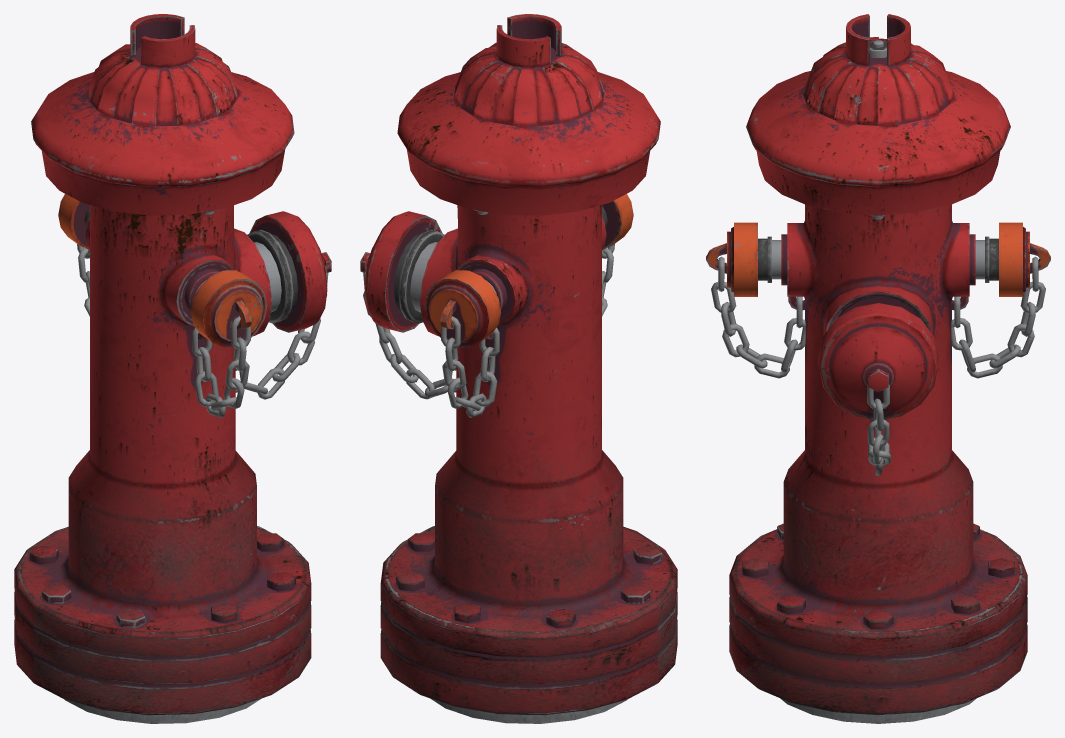
The model's file is FireHydrant.fbx.
3 renders of one model, left to right at view 1: azimuth 30°, elevation 25°; view 2: azimuth 150°, elevation 25°; view 3: azimuth 270°, elevation 25°, orthographic.
Visible parts, largest first — view 1: FireHydrant_LOD0; view 2: FireHydrant_LOD0; view 3: FireHydrant_LOD0.
Boxes of the visible parts, box(x1,y1,x2,y2) form: FireHydrant_LOD0: box(14, 14, 331, 723); FireHydrant_LOD0: box(360, 14, 677, 723); FireHydrant_LOD0: box(706, 14, 1050, 723).
Size of what is drawn, in the model's own units: 49.51 by 104 by 50.24.
